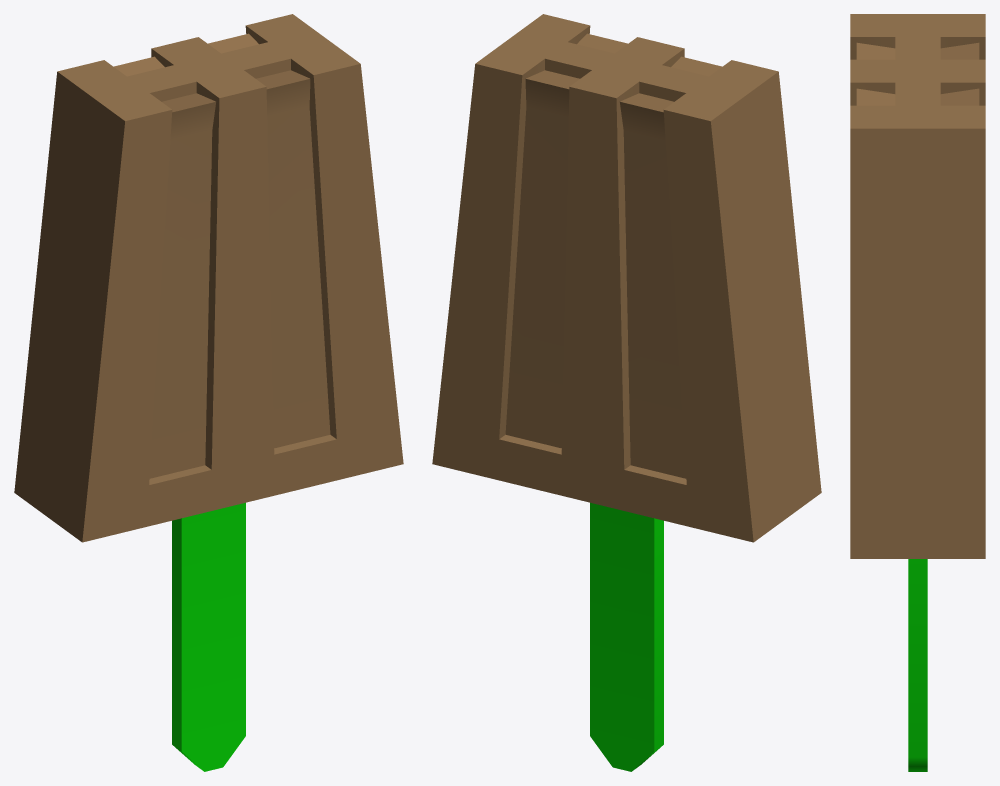
Rendered from PopisicleID.fbx.
The picture shows the model from 3 angles, left to right: view 1: azimuth 30°, elevation 25°; view 2: azimuth 150°, elevation 25°; view 3: azimuth 270°, elevation 25°; orthographic projection.
Parts seen in each view (by area): view 1: pCube1_id; view 2: pCube1_id; view 3: pCube1_id.
Boxes of the visible parts, <box> form: pCube1_id: <box>14,14,403,771</box>; pCube1_id: <box>432,14,821,771</box>; pCube1_id: <box>850,14,985,771</box>.
Bounding box in the file's own units: 4.09 × 8.5 × 1.5.
